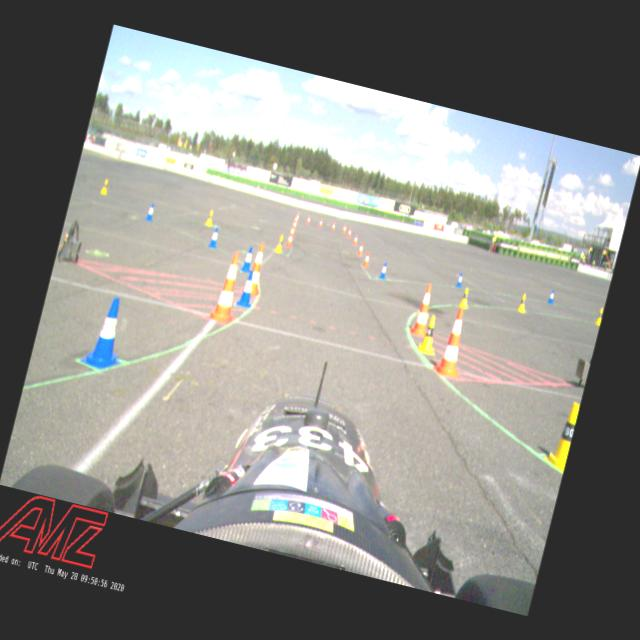blue_cone: (81, 290, 132, 370), (233, 266, 260, 310), (238, 242, 256, 272), (206, 224, 222, 249), (142, 199, 156, 221), (377, 260, 389, 280), (454, 271, 466, 288), (546, 287, 556, 304)
large_orange_cone: (433, 304, 475, 382), (211, 246, 248, 324), (407, 280, 440, 340), (242, 238, 270, 294)
orange_cone: (362, 251, 372, 268), (285, 231, 295, 248), (357, 242, 365, 256), (352, 234, 359, 246), (346, 228, 352, 238), (341, 224, 347, 234), (330, 222, 336, 232), (317, 218, 323, 228), (306, 214, 312, 224)
yellow_cone: (541, 396, 580, 472), (417, 314, 441, 356), (458, 286, 472, 310), (516, 291, 531, 313), (593, 304, 604, 328), (202, 207, 215, 227), (98, 177, 110, 195), (274, 234, 285, 253)
